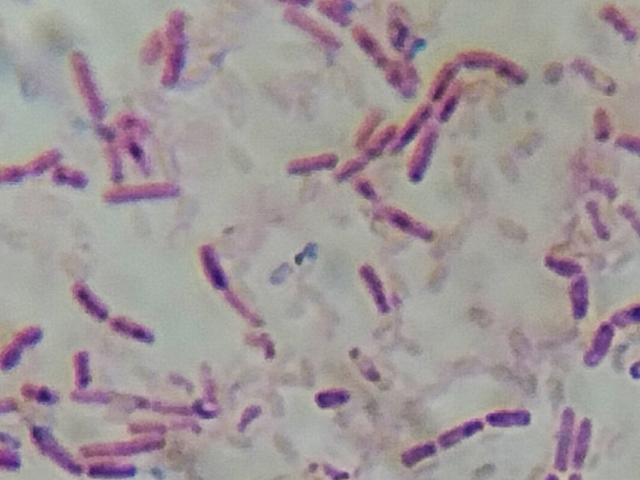E. coli: (335, 106, 393, 179), (73, 390, 212, 420), (546, 252, 590, 320), (72, 48, 110, 121), (154, 12, 190, 82), (464, 44, 525, 84), (83, 426, 167, 455), (0, 322, 45, 373), (383, 205, 435, 245), (104, 178, 185, 203), (435, 408, 481, 451), (583, 320, 618, 375), (362, 261, 394, 316), (35, 424, 72, 471), (596, 2, 635, 46), (552, 409, 578, 471), (196, 235, 226, 286), (486, 401, 533, 433), (350, 21, 381, 65), (8, 146, 61, 171), (412, 128, 438, 178), (428, 58, 458, 101), (270, 13, 321, 38), (87, 456, 140, 480), (70, 277, 101, 318), (308, 380, 347, 412), (395, 97, 422, 141), (574, 414, 593, 476), (286, 149, 335, 173), (403, 430, 438, 463), (394, 50, 420, 91), (49, 165, 88, 191), (124, 124, 148, 164), (99, 131, 120, 176), (319, 0, 354, 27), (72, 346, 93, 389), (583, 199, 606, 237), (114, 312, 145, 340), (614, 125, 640, 158), (22, 377, 57, 401), (0, 428, 19, 469), (593, 107, 612, 141)
